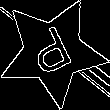P_SE: (25, 21, 80, 83)
